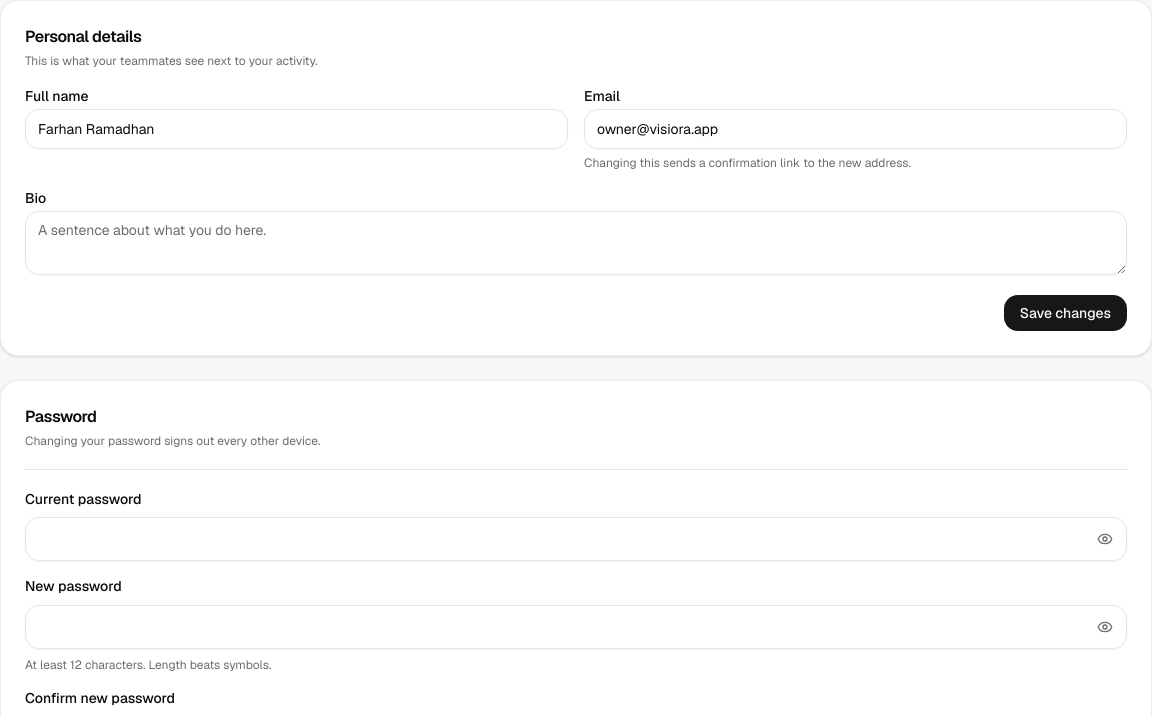
Test: ProfileForm › shows a busy state while saving
Click the button "Save changes": click(1065, 313) 1004,295 -> 1127,331
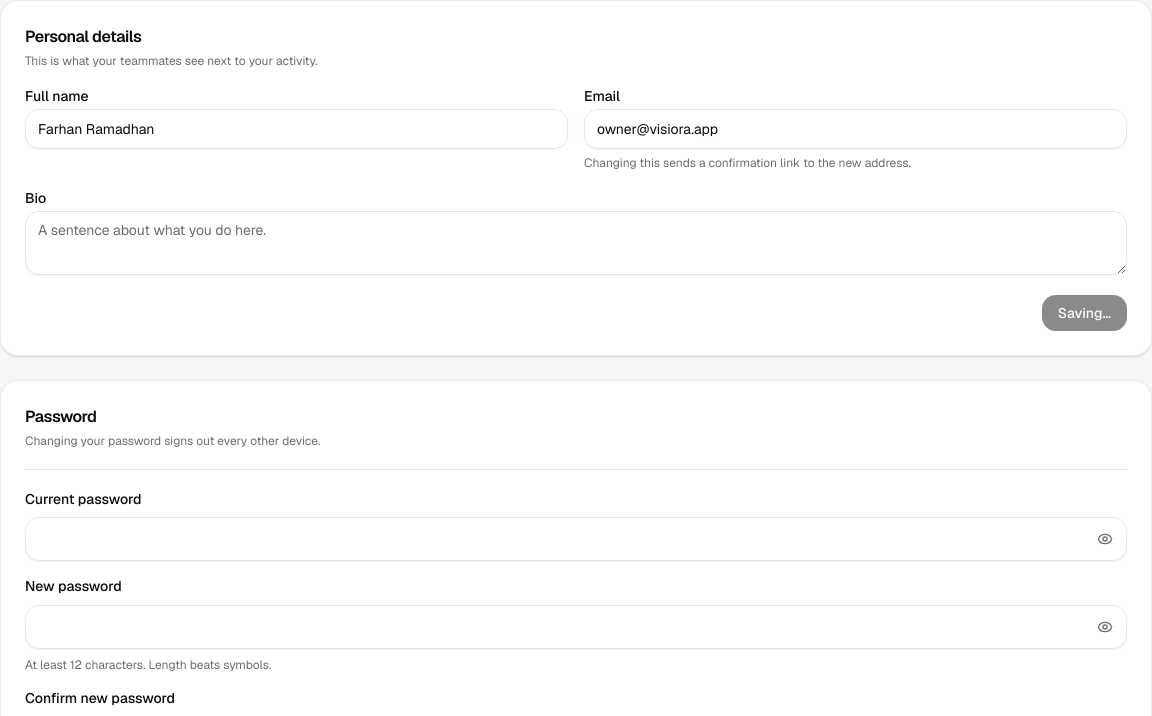
Expected: the button "Saving…" is disabled, 1042,295 -> 1127,331
